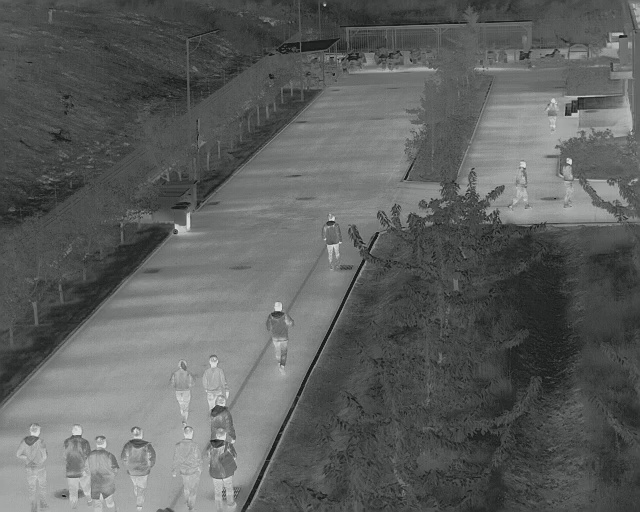person: (120, 426, 158, 512), (16, 423, 50, 512), (205, 427, 240, 512), (83, 435, 120, 512), (171, 427, 202, 512), (61, 424, 90, 510), (264, 300, 295, 376), (168, 359, 194, 429), (201, 355, 230, 408), (508, 160, 533, 212), (322, 212, 343, 272), (560, 156, 576, 209), (545, 97, 560, 134)
